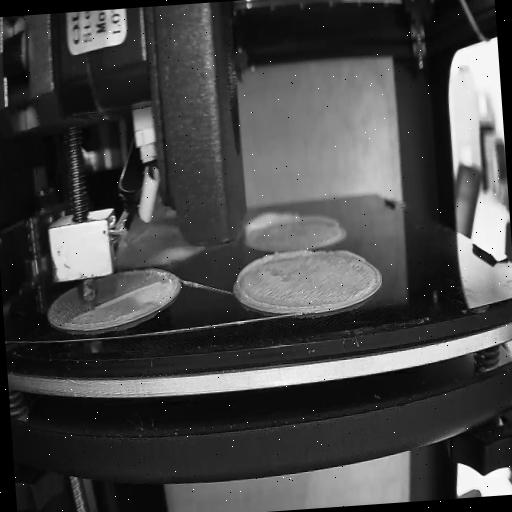over_extrusion: (234, 248, 320, 316), (92, 278, 164, 316), (241, 209, 301, 243), (334, 246, 366, 266), (303, 214, 339, 231)
